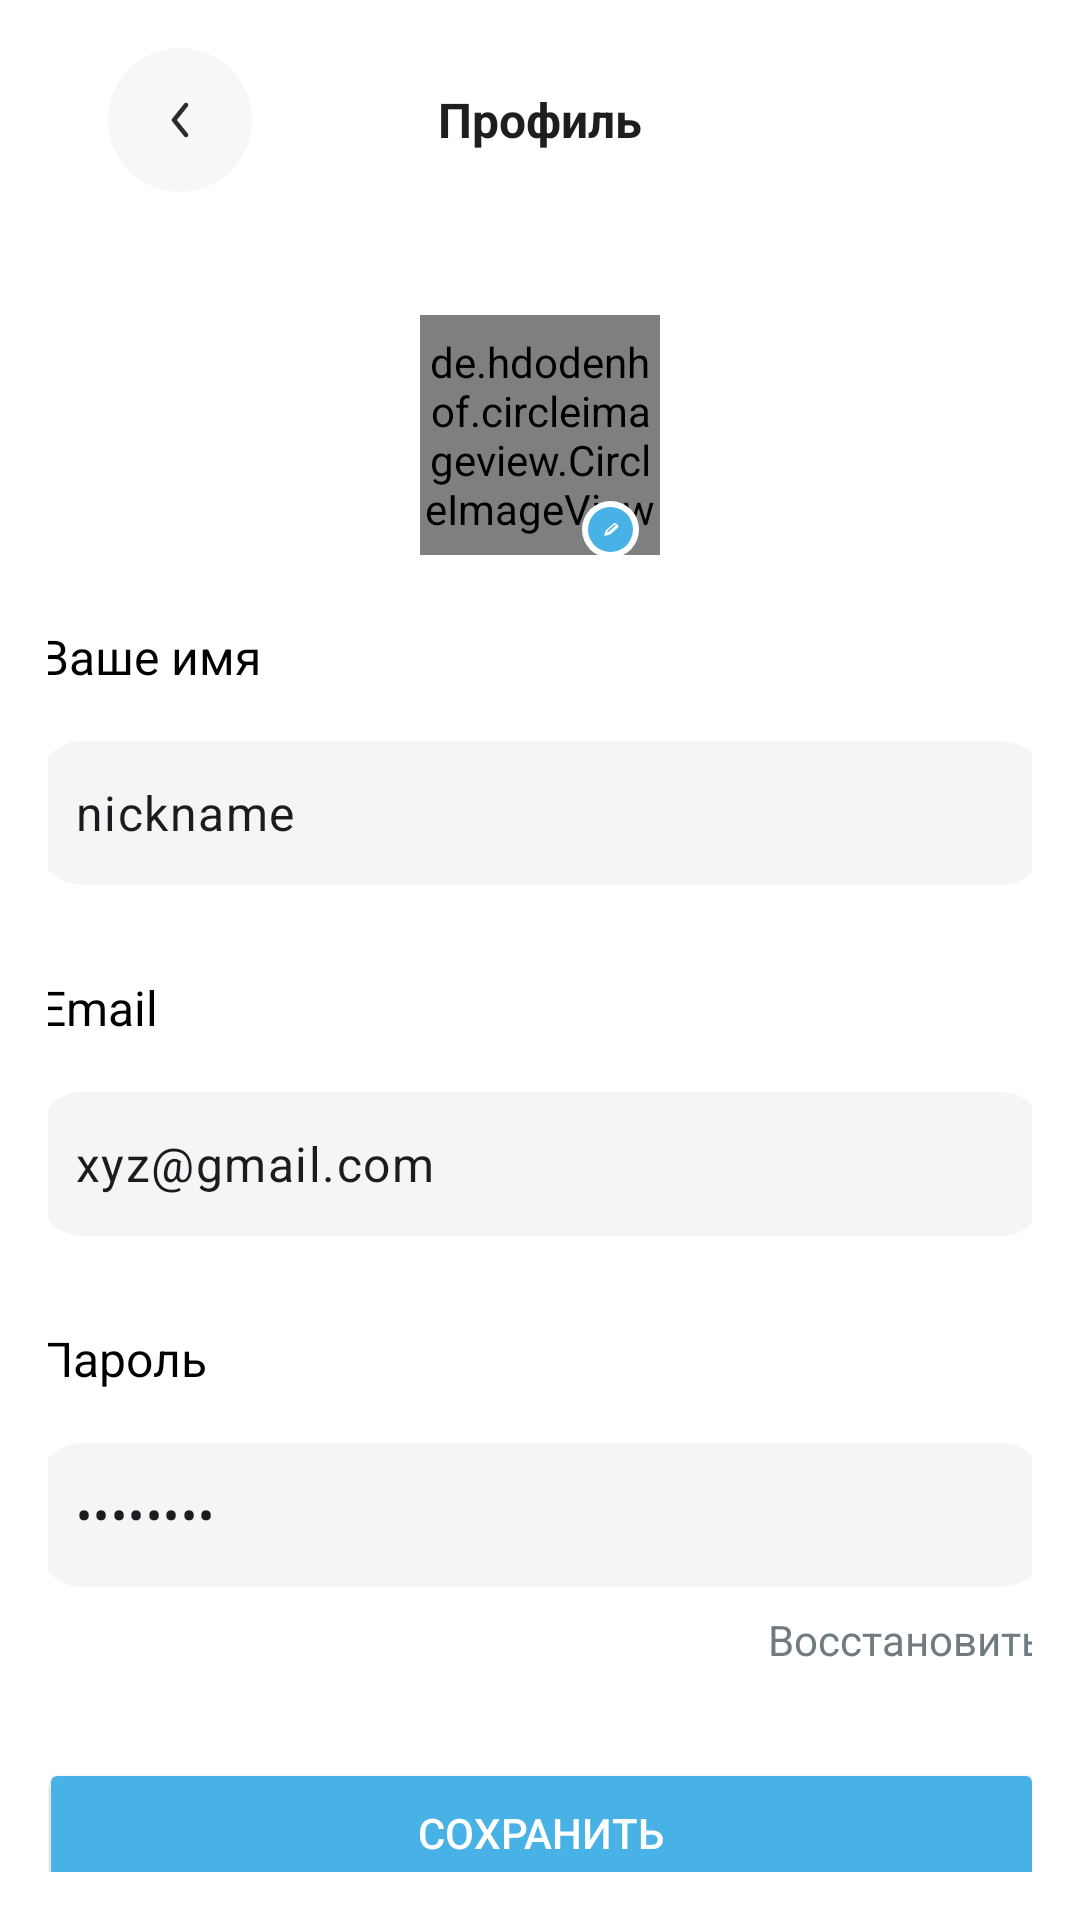

Screen size 1080px x 1920px. Icon name, then its center in pixels as (x,y):
back: (180,120)
Edit Profile: (610,529)
